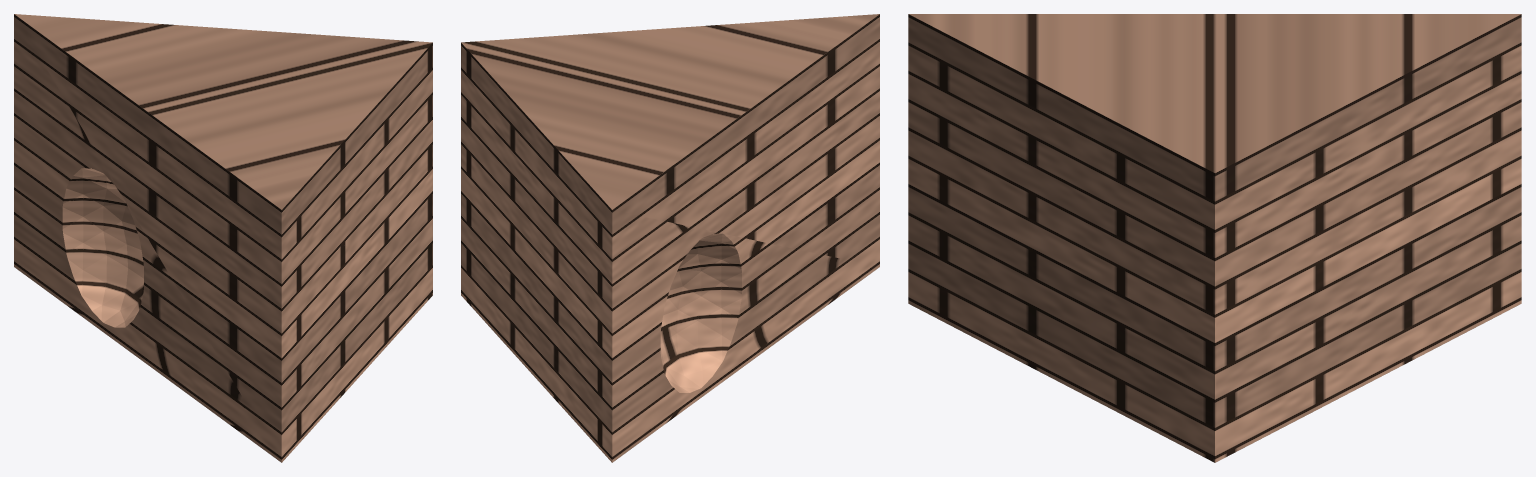
3 views of the same model, side by side, from view 1: azimuth 30°, elevation 25°; view 2: azimuth 150°, elevation 25°; view 3: azimuth 270°, elevation 25° (orthographic). The views are drawn at different scales.
Visible parts, largest first — view 1: geometry_0; view 2: geometry_0; view 3: geometry_0.
Part boxes in pixels (box(x1,y1,x2,y2)): geometry_0: box(14, 14, 432, 462); geometry_0: box(461, 14, 879, 462); geometry_0: box(908, 14, 1521, 462).
Bounding box in the file's own units: 1.3 × 1.1 × 2.11.
Materials: 1 (1 with a texture image).
